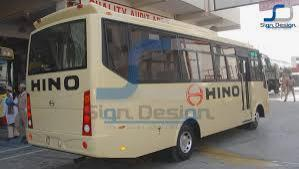bus: (20, 8, 272, 163)
